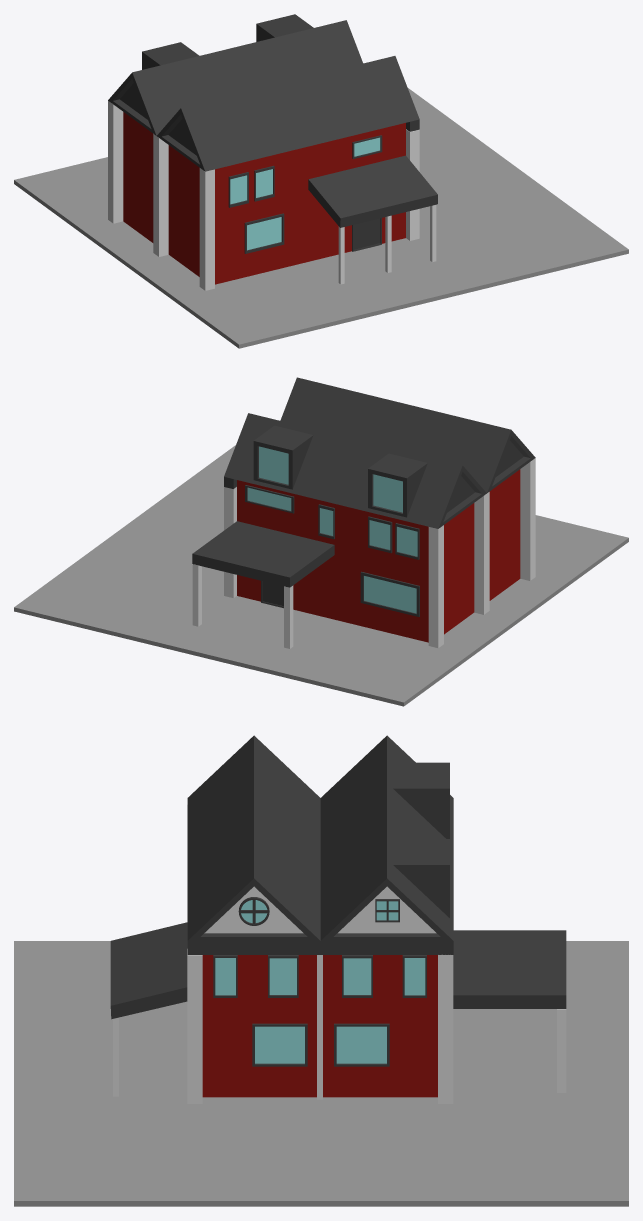
Rendered from angie huis2.fbx.
3 renders of one model, top to bottom at view 1: azimuth 30°, elevation 25°; view 2: azimuth 150°, elevation 25°; view 3: azimuth 270°, elevation 25°, orthographic. The views are drawn at different scales.
Parts seen in each view (by area): view 1: Cube.015, Cube, Cylinder, Cylinder.001, Cube.001, Cube.005, Cube.006, Cube.004, Cube.025, Cube.040, Cube.041, Cube.002 (+4 smaller); view 2: Cube.015, Cube, Cylinder, Cylinder.001, Cube.029, Cube.040, Cube.041, Cube.035, Cube.004, Cube.006, Cube.005, Cube.036 (+7 smaller); view 3: Cube.015, Cube, Cylinder, Cylinder.001, Cube.029, Cube.001, Cube.007, Cube.041, Cube.040, Cube.018, Cube.023, Cube.002 (+7 smaller).
Boxes of the visible parts, bbox=[...] form: Cube.015: bbox=[14, 88, 628, 348]; Cube: bbox=[123, 112, 405, 284]; Cylinder: bbox=[157, 56, 419, 171]; Cylinder.001: bbox=[108, 20, 363, 135]; Cube.001: bbox=[308, 155, 437, 227]; Cube.005: bbox=[199, 168, 214, 290]; Cube.006: bbox=[153, 134, 168, 256]; Cube.004: bbox=[108, 101, 123, 223]; Cube.025: bbox=[244, 213, 284, 253]; Cube.040: bbox=[256, 14, 313, 41]; Cube.041: bbox=[142, 42, 199, 69]; Cube.002: bbox=[406, 129, 419, 240]; Cube.015: bbox=[14, 445, 628, 706]; Cube: bbox=[237, 469, 520, 642]; Cylinder: bbox=[280, 377, 535, 492]; Cylinder.001: bbox=[224, 413, 486, 528]; Cube.029: bbox=[192, 521, 334, 587]; Cube.040: bbox=[253, 425, 313, 489]; Cube.041: bbox=[368, 453, 427, 517]; Cube.035: bbox=[360, 571, 419, 616]; Cube.004: bbox=[428, 525, 443, 648]; Cube.006: bbox=[474, 492, 489, 614]; Cube.005: bbox=[520, 458, 535, 580]; Cube.036: bbox=[245, 485, 294, 513]; Cube.015: bbox=[14, 941, 628, 1206]; Cube: bbox=[202, 955, 437, 1097]; Cylinder: bbox=[187, 735, 320, 940]; Cylinder.001: bbox=[320, 735, 453, 940]; Cube.029: bbox=[453, 930, 566, 1008]; Cube.001: bbox=[110, 922, 187, 1019]; Cube.007: bbox=[187, 941, 453, 954]; Cube.041: bbox=[393, 762, 449, 838]; Cube.040: bbox=[393, 839, 449, 917]; Cube.018: bbox=[252, 1023, 307, 1066]; Cube.023: bbox=[334, 1023, 389, 1066]; Cube.002: bbox=[187, 949, 202, 1103].
Size of the model in its own units: 4000 by 1752 by 4000.
